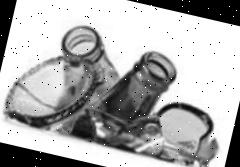glass: (0, 9, 240, 167)
